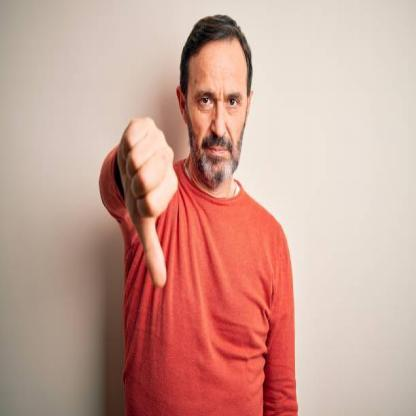thumb_down: (116, 113, 180, 290)
